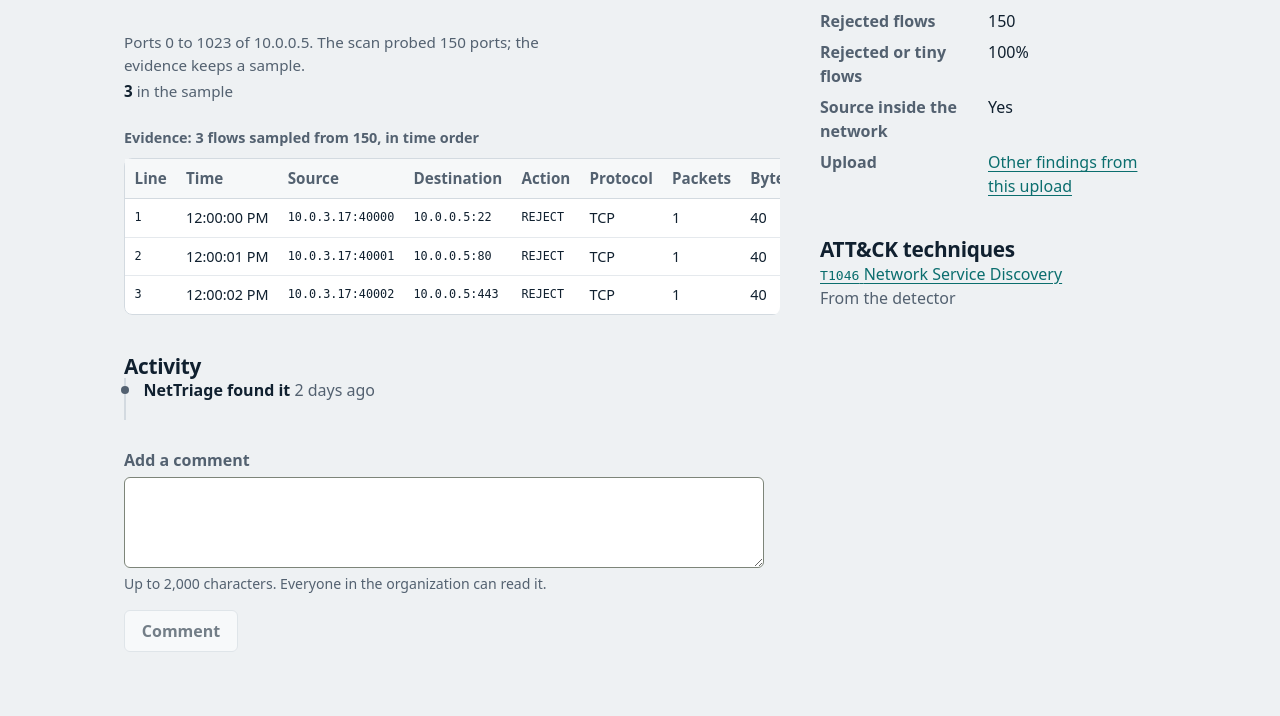
it: a comment the API refuses says why
The width and height of the screenshot is (1280, 716).
(page scrolled)
Type "Again." into the text box labelled "Add a comment" at coordinates (444, 522), box [124,477,764,568]
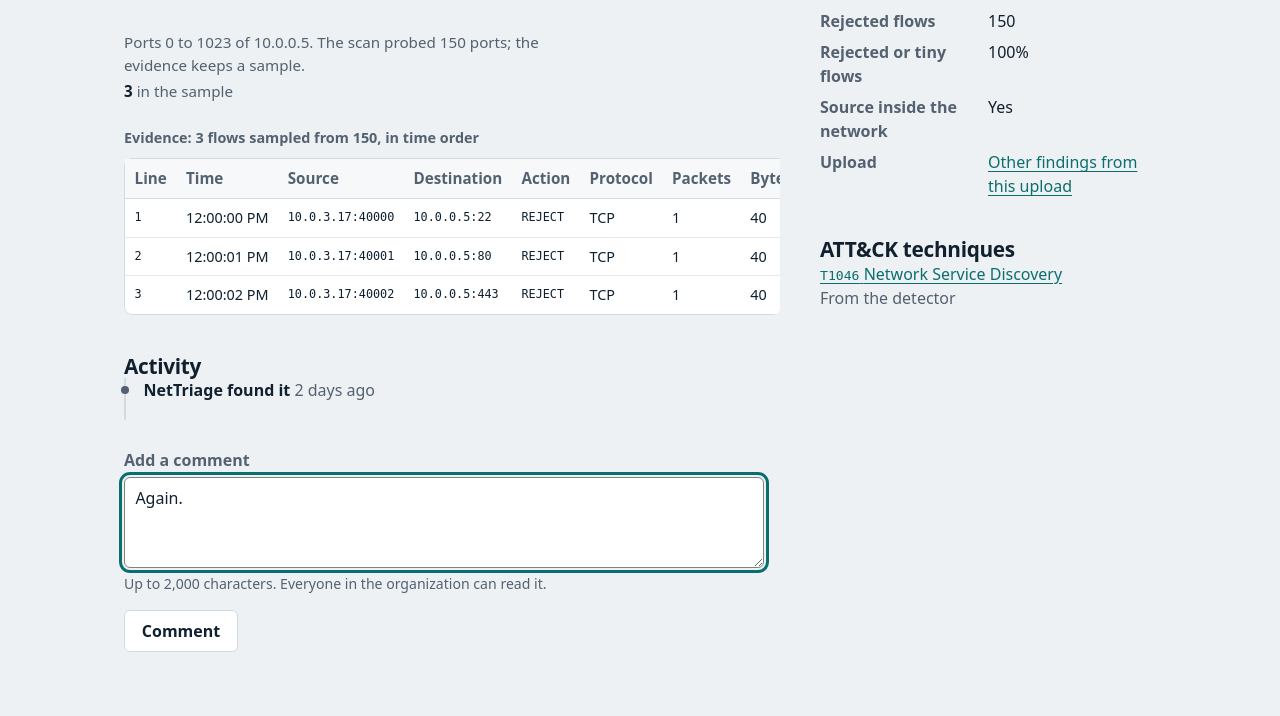
Click the button "Comment" at coordinates (181, 631), box [124,610,238,652]
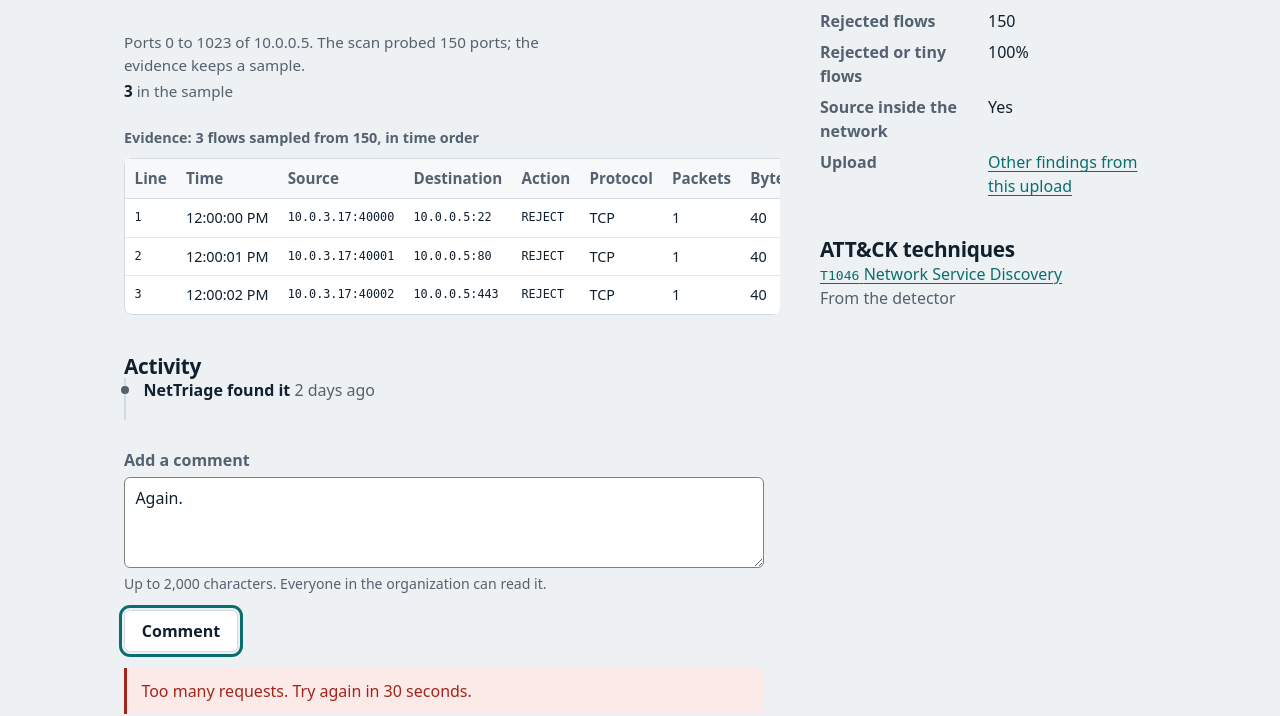
Result: the message reads "Too many requests. Try again in 30 seconds." at [141,680,472,702]
